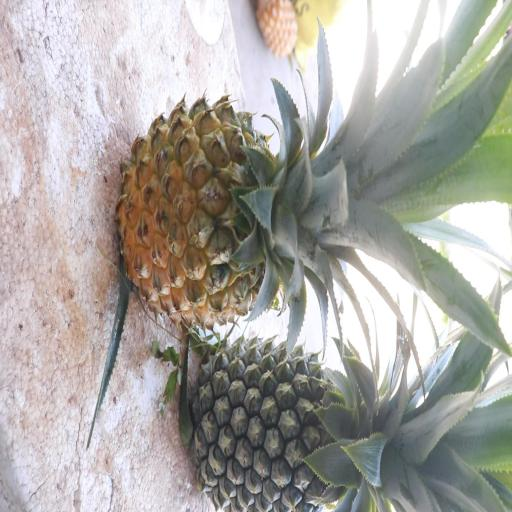Pineapple - v8 v1: (119, 93, 390, 328)
